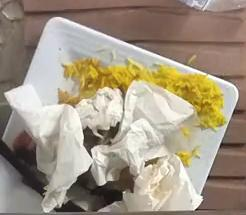rice: (57, 57, 224, 126)
